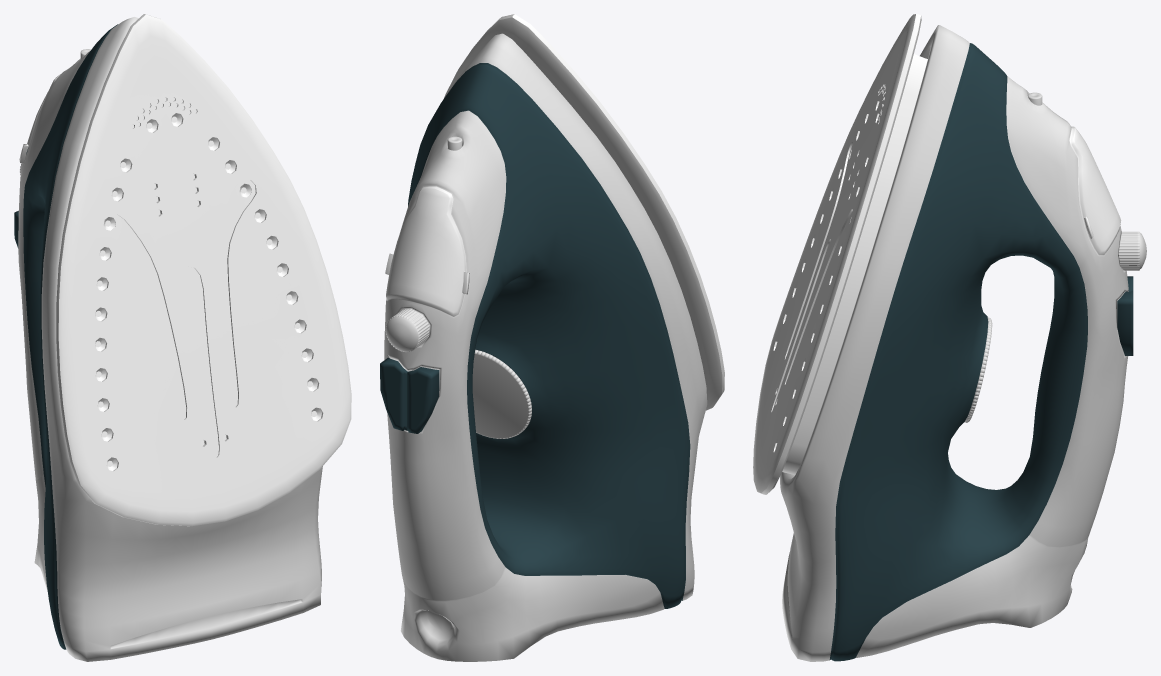
File: iron.fbx
The picture shows the model from 3 angles, left to right: view 1: azimuth 30°, elevation 25°; view 2: azimuth 150°, elevation 25°; view 3: azimuth 270°, elevation 25°; orthographic projection. The views are drawn at different scales.
Parts seen in each view (by area): view 1: plate, body; view 2: body, plate, relay, buttons, relay.001; view 3: body, plate, buttons, relay.001.
Boxes of the visible parts, <box> form: plate: <box>56,14,351,526</box>; body: <box>18,17,322,661</box>; body: <box>384,33,707,661</box>; plate: <box>444,14,724,410</box>; relay: <box>472,349,531,438</box>; buttons: <box>380,357,439,433</box>; relay.001: <box>385,309,429,352</box>; body: <box>780,25,1128,661</box>; plate: <box>753,14,927,494</box>; buttons: <box>1117,276,1133,355</box>; relay.001: <box>1119,231,1146,270</box>.
Size of the model in its own units: 14.49 by 28.41 by 17.23.
